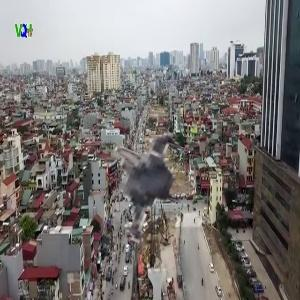drone: (84, 111, 225, 252)
